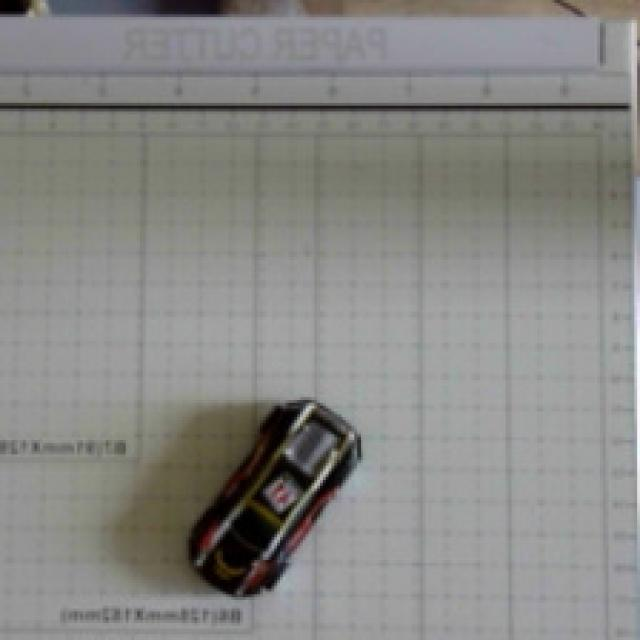Red Car: (171, 373, 392, 630)
